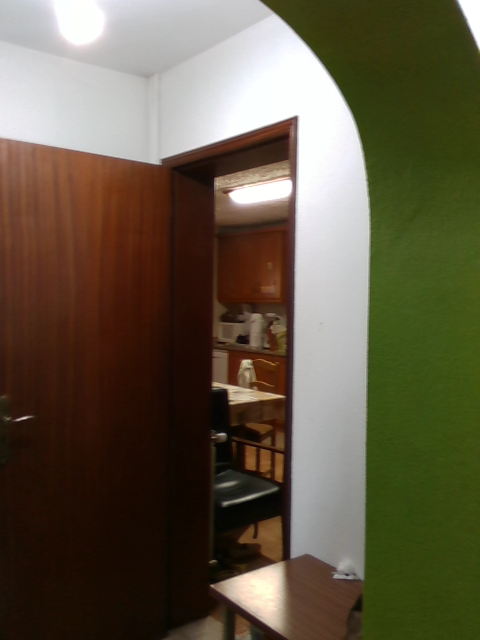open: (0, 115, 298, 639)
